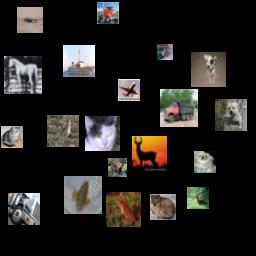airplane: (17, 7, 43, 33), (118, 79, 140, 101)
bird: (47, 115, 79, 147)
cat: (85, 116, 120, 151), (1, 126, 23, 148), (157, 44, 173, 60)
deer: (132, 136, 167, 171), (187, 187, 209, 209), (108, 158, 127, 177)
dog: (191, 52, 226, 87), (215, 99, 247, 131), (150, 194, 176, 220), (194, 151, 216, 173)
frog: (64, 176, 102, 214), (106, 192, 141, 227)
ship: (63, 45, 95, 77)
truck: (160, 89, 198, 127), (8, 193, 40, 225), (97, 2, 119, 24)
